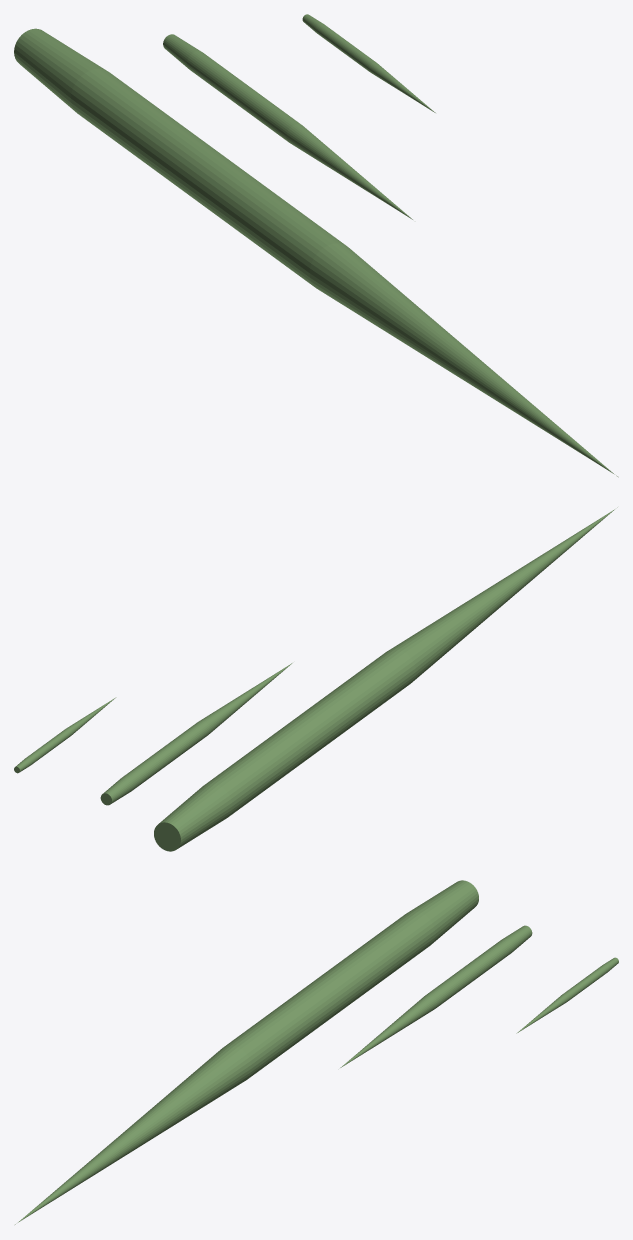
The model's file is snake-animal.glb.
3 views of the same model, one above another, from view 1: azimuth 30°, elevation 25°; view 2: azimuth 150°, elevation 25°; view 3: azimuth 330°, elevation 25° (orthographic). The views are drawn at different scales.
Parts seen in each view (by area): view 1: xier120.snake-animal.mesh.000, xier120.snake-animal.mesh.001, xier120.snake-animal.mesh.002; view 2: xier120.snake-animal.mesh.000, xier120.snake-animal.mesh.001, xier120.snake-animal.mesh.002; view 3: xier120.snake-animal.mesh.000, xier120.snake-animal.mesh.001, xier120.snake-animal.mesh.002.
Part boxes in pixels (x1,y1,x2,y2): xier120.snake-animal.mesh.000: (14,28,618,477); xier120.snake-animal.mesh.001: (163,34,412,219); xier120.snake-animal.mesh.002: (302,14,435,112); xier120.snake-animal.mesh.000: (154,507,617,851); xier120.snake-animal.mesh.001: (100,663,292,805); xier120.snake-animal.mesh.002: (14,697,116,773); xier120.snake-animal.mesh.000: (15,880,478,1224); xier120.snake-animal.mesh.001: (340,925,532,1067); xier120.snake-animal.mesh.002: (516,957,618,1033).
Size of the model in its own units: 1.75 by 0.3011 by 6.76.
